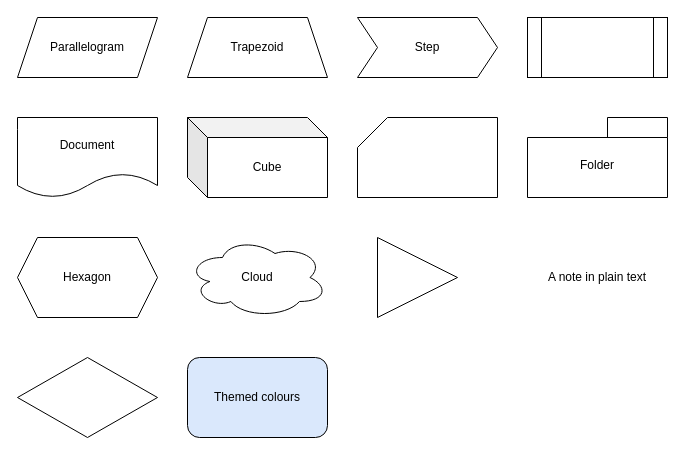
The diagram is 685 pixels wide and 455 high, and some of its shapes have lost their labels. The centre of each missing label's shape, as x and y in pixels:
"Card" belongs at pixel 427 157.
"Library stencil" belongs at pixel 87 397.
"Process" belongs at pixel 597 47.
"Triangle" belongs at pixel 417 277.
